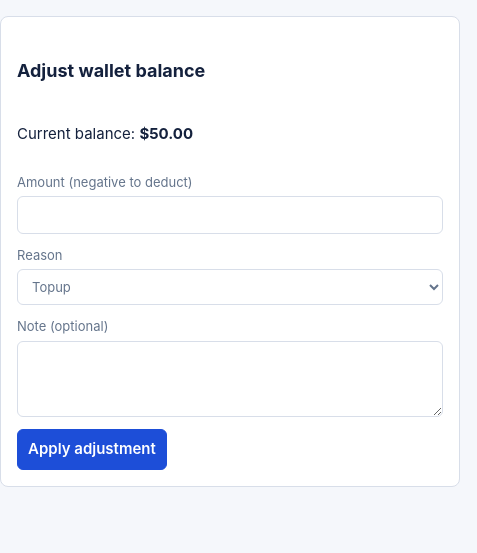
WalletAdjustmentForm › rejects zero amount before hitting the server
Type "0" into the number field labelled "Amount (negative to deduct)".
click(230, 215); type("0")  # box [17,196,443,234]
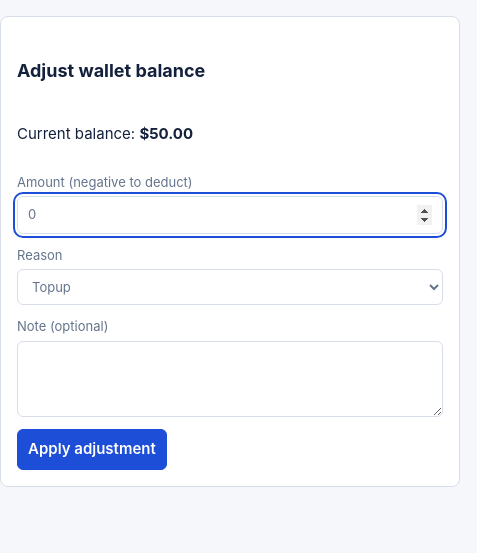
Click the button "Apply adjustment".
click(92, 449)  # box [17,429,167,470]
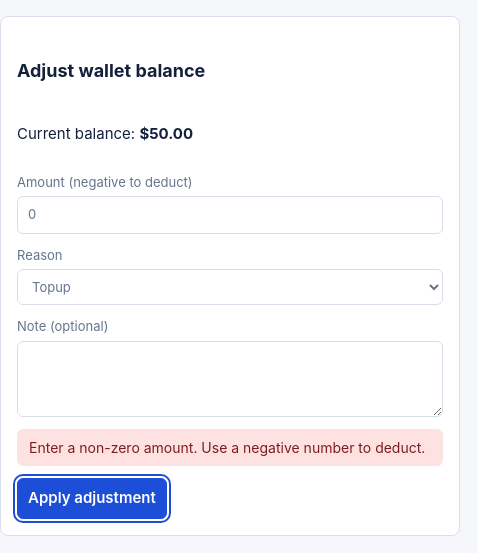
Check: the message shows "non-zero amount", box [29,439,425,456]
